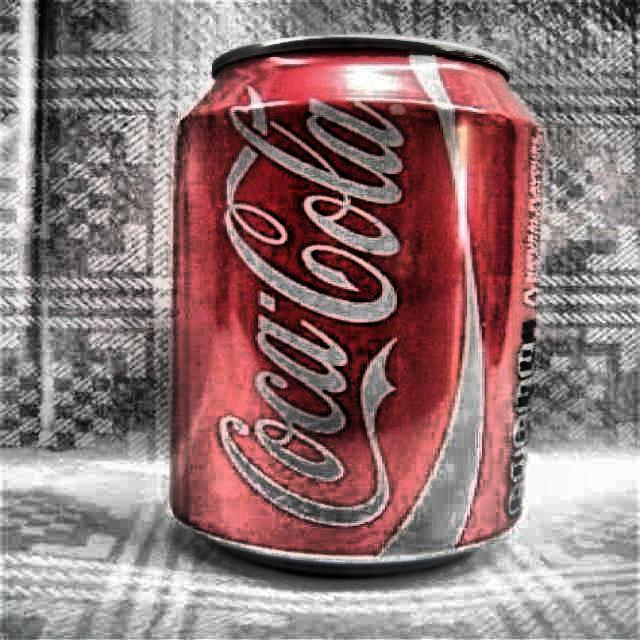metal: (170, 36, 549, 582)
